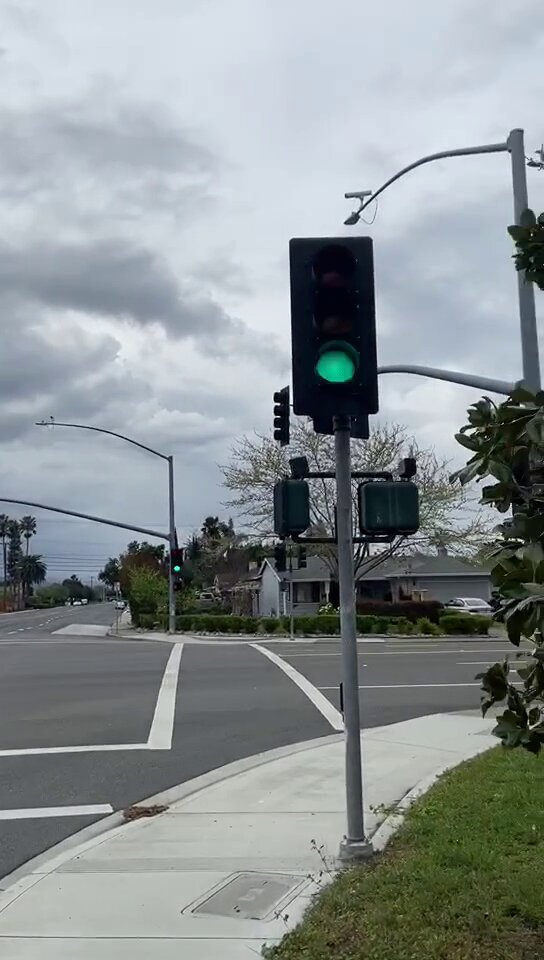green_light: (292, 242, 376, 409), (172, 550, 183, 573)
